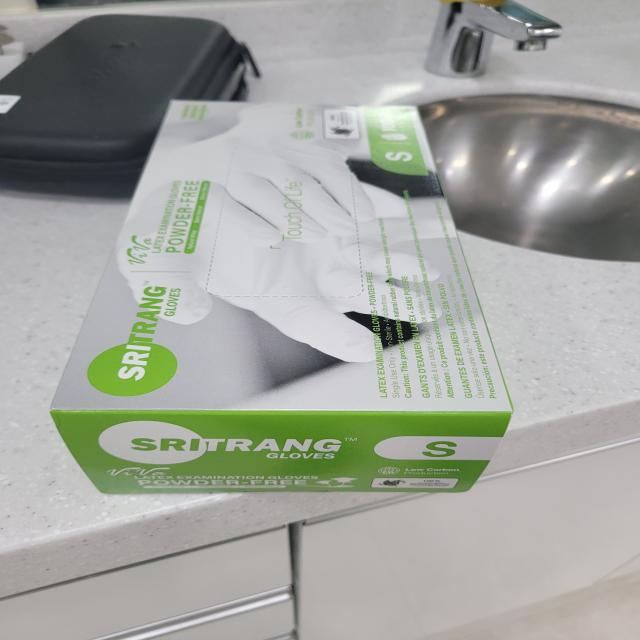glove: (46, 84, 524, 533)
